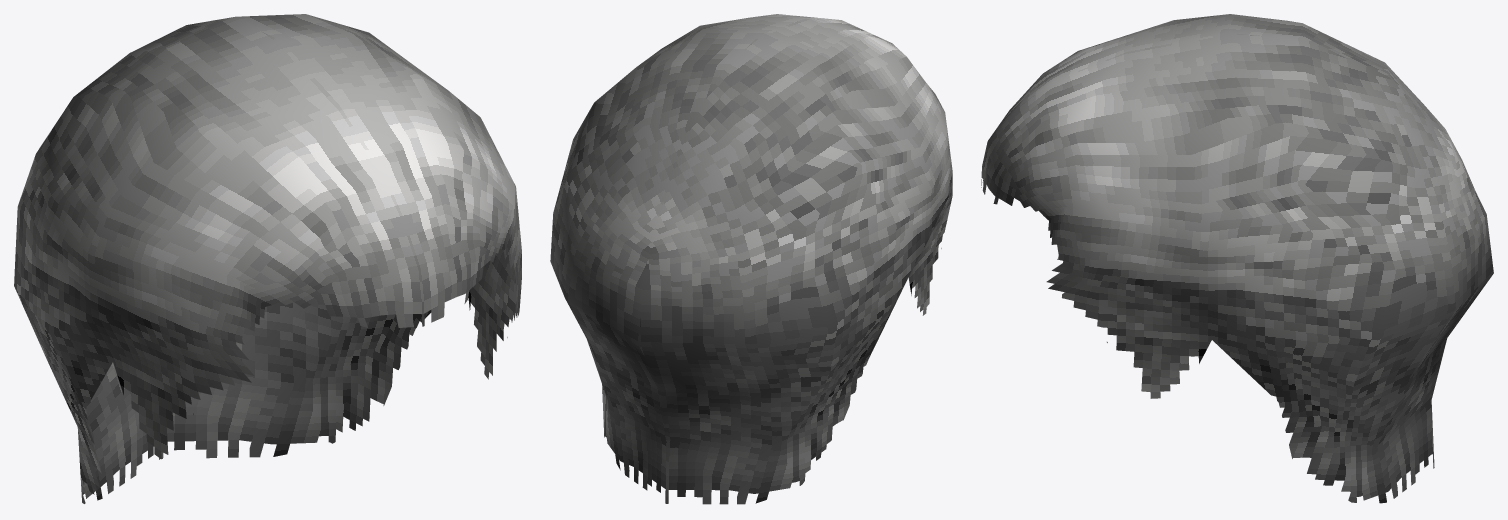
The model's file is m_head012.glb.
The picture shows the model from 3 angles, left to right: view 1: azimuth 30°, elevation 25°; view 2: azimuth 150°, elevation 25°; view 3: azimuth 270°, elevation 25°; orthographic projection. The views are drawn at different scales.
Size of the model in its own units: 17.28 by 20.51 by 21.85.
Materials: 1 (1 with a texture image).
